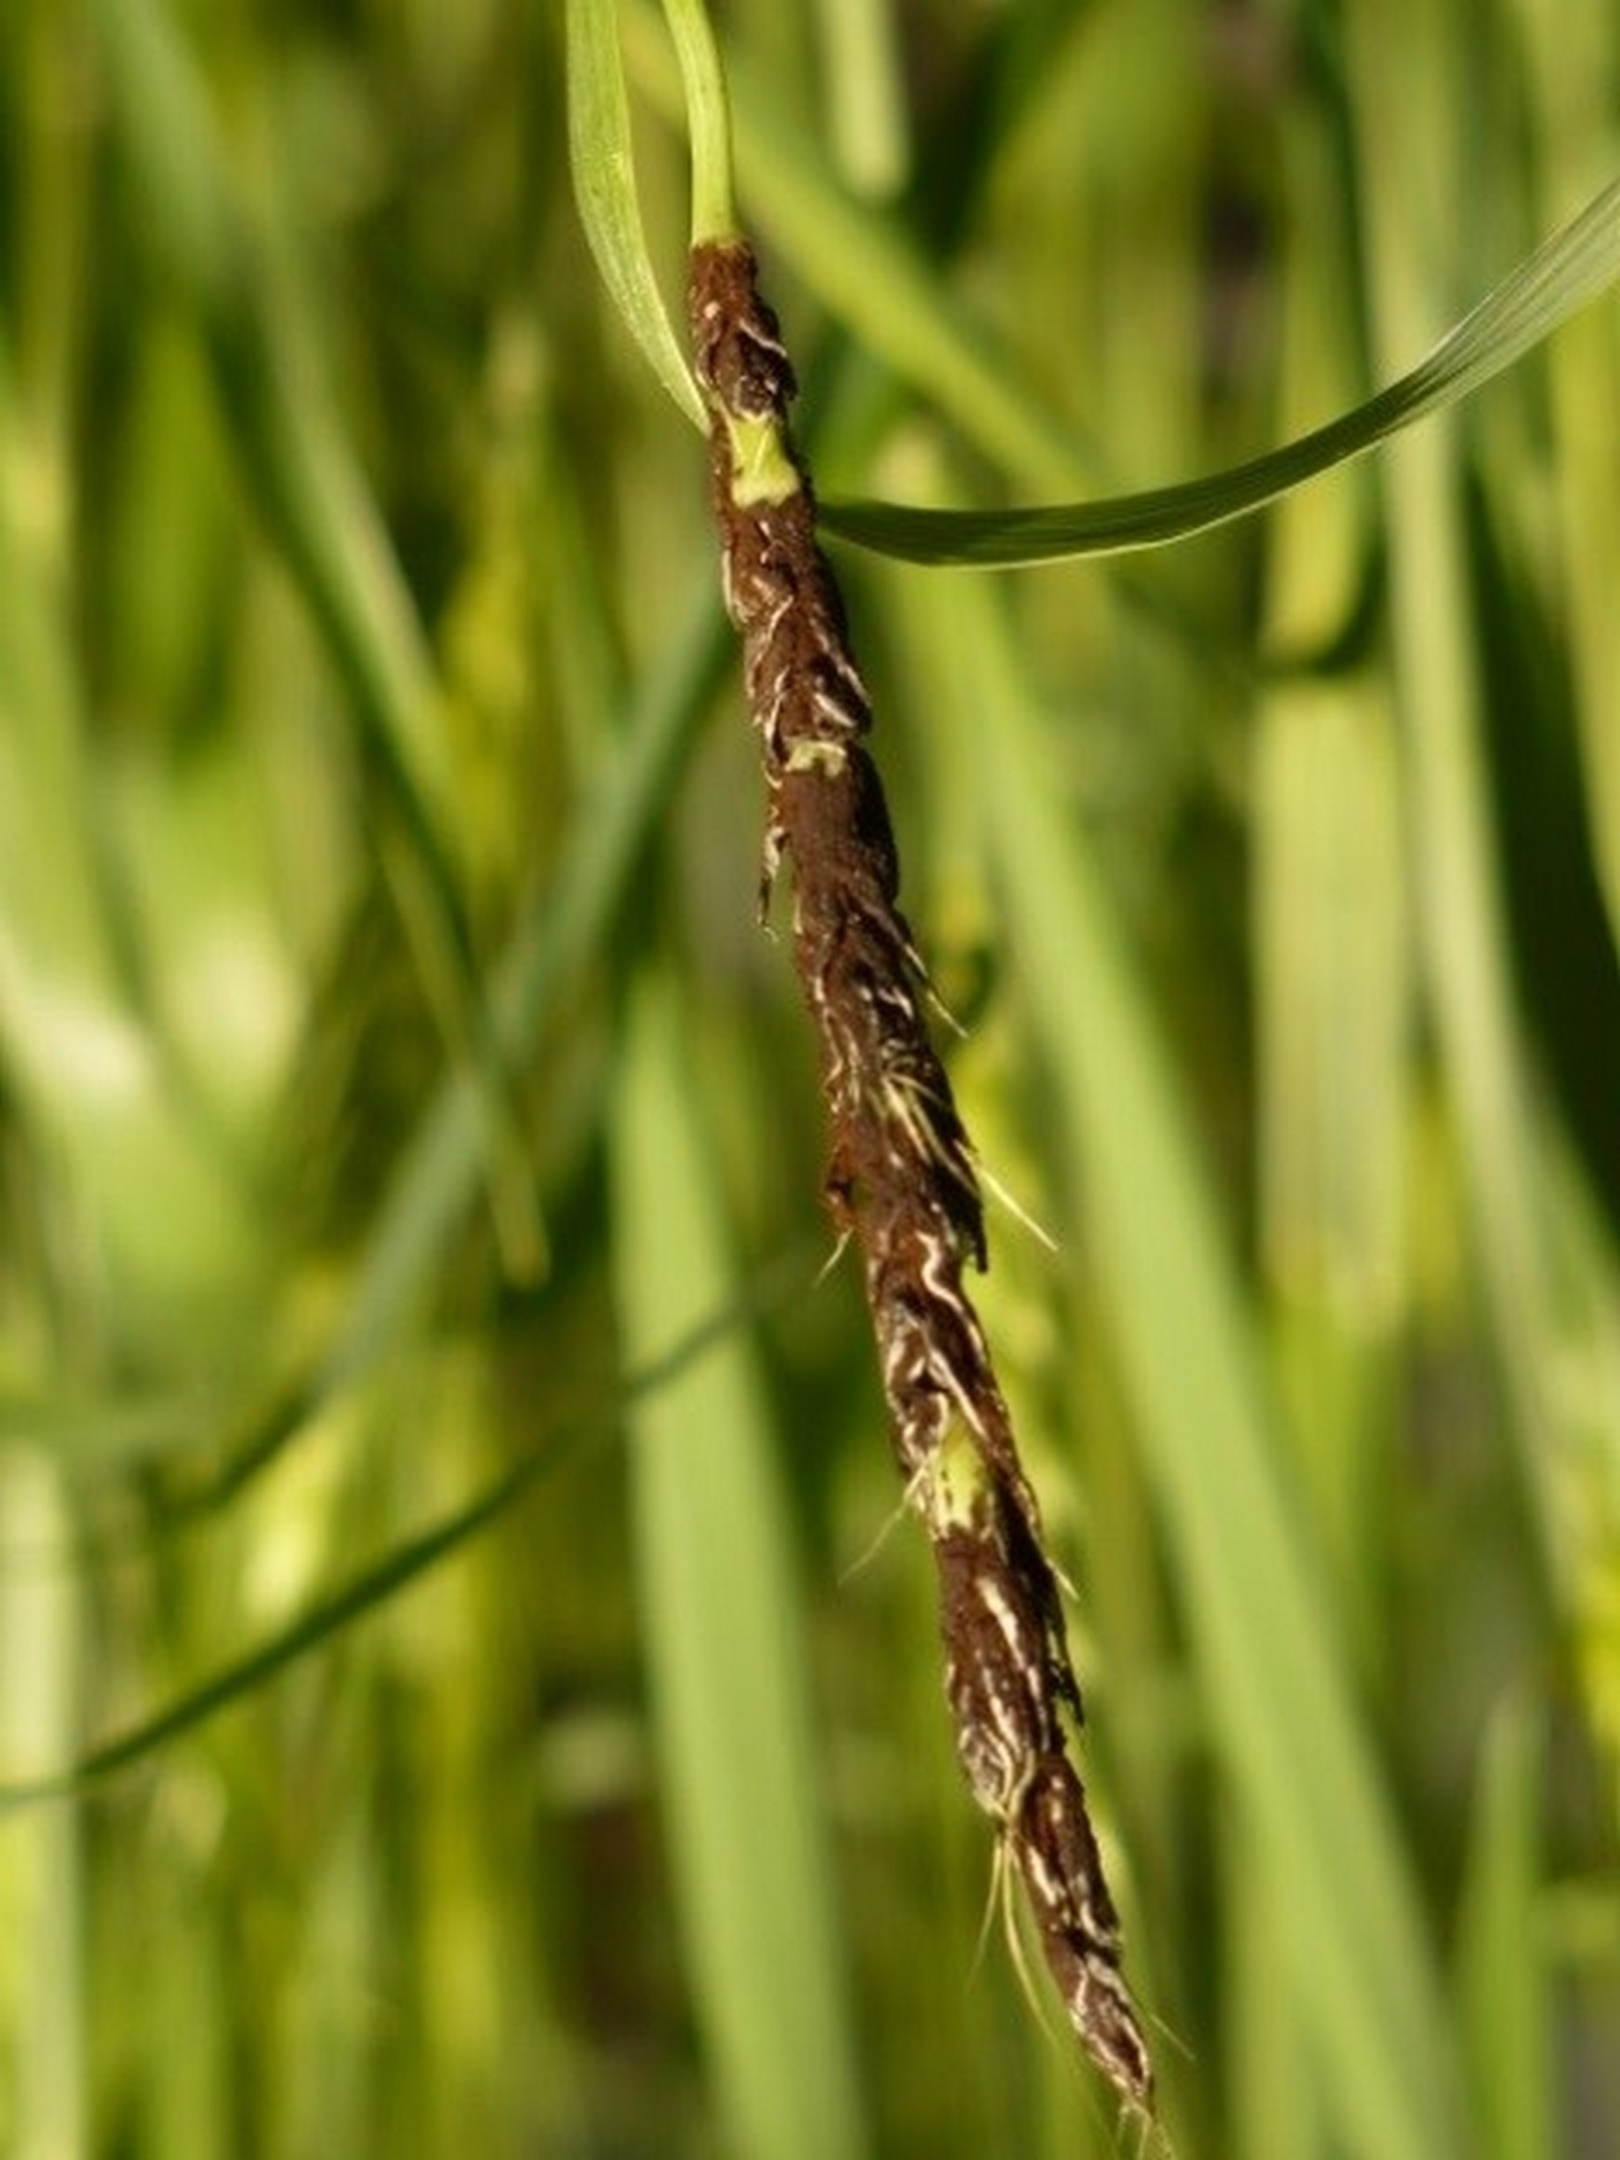Wheat Loose Smut: (640, 196, 1224, 2089)
